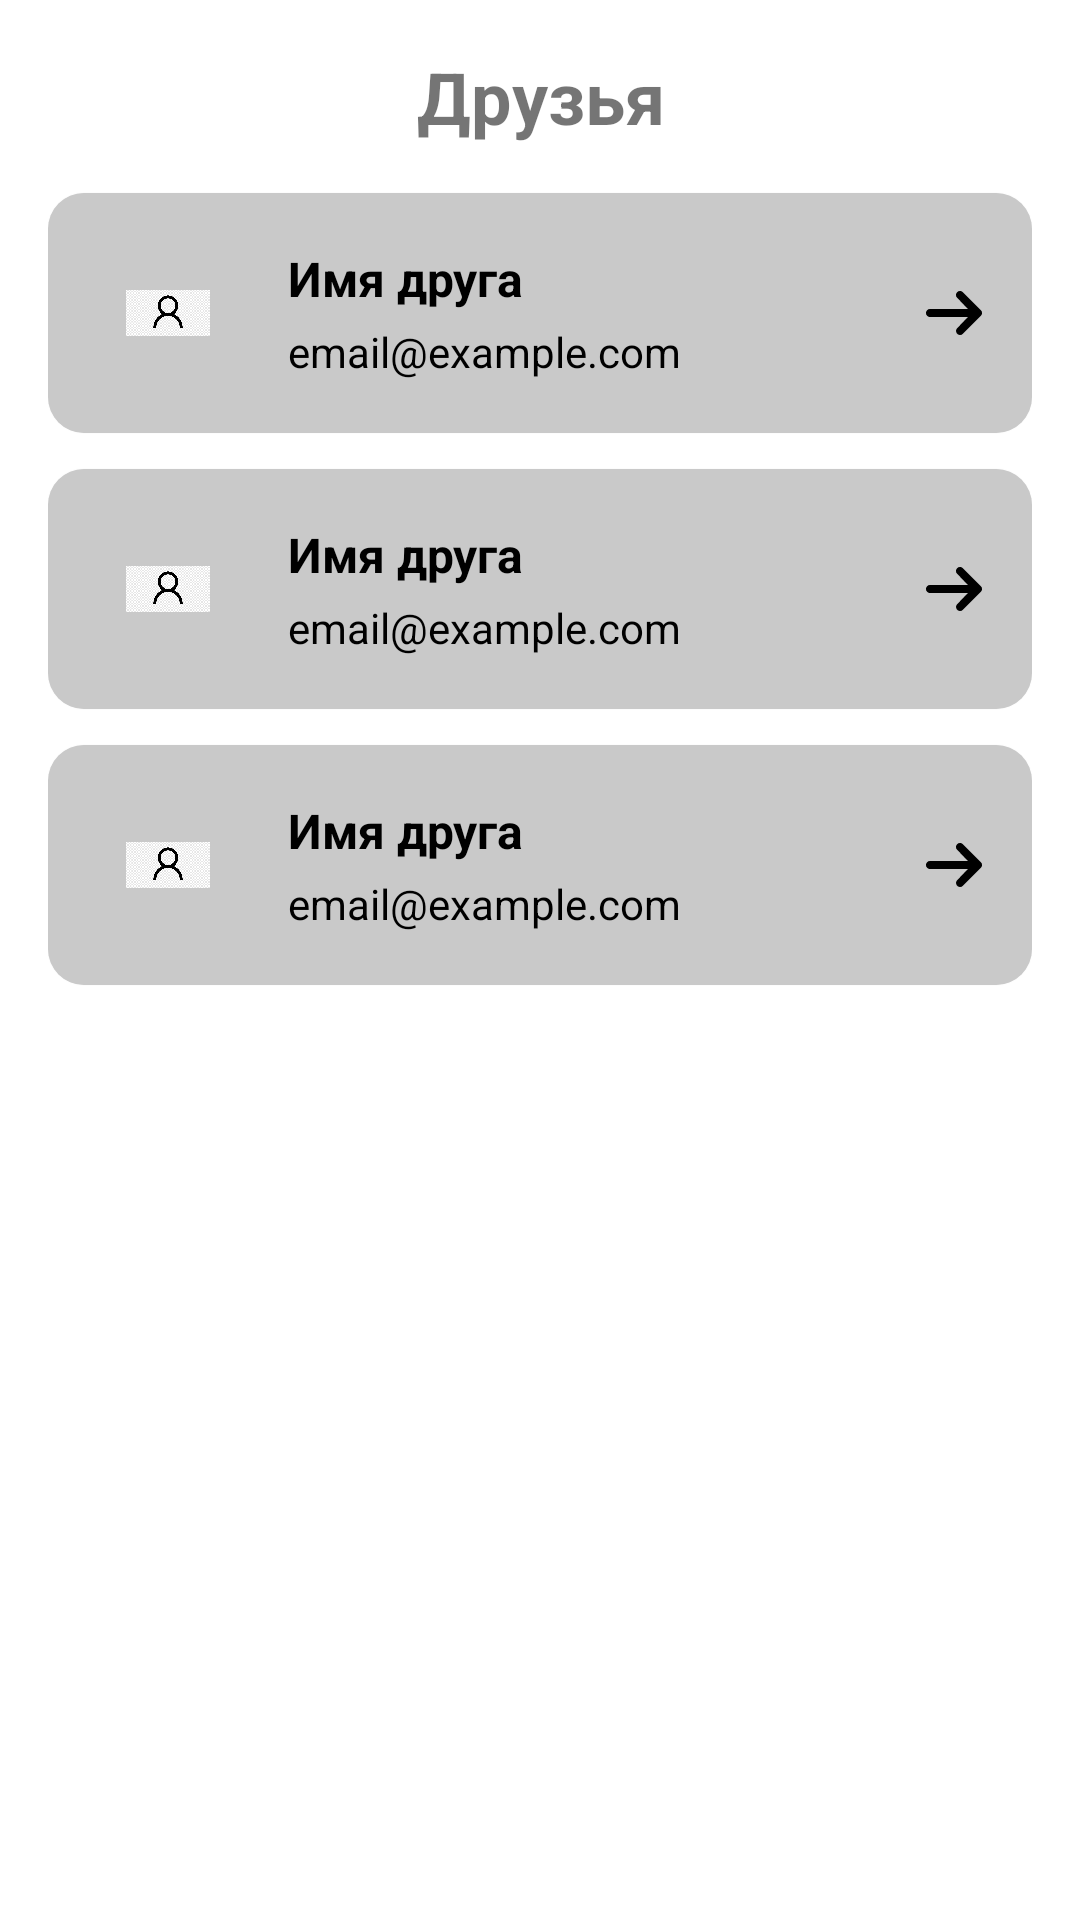

Icons on this 1080w x 1920h Android screen, each with the point to tap as (x,y):
arrow right: (954,313), (954,589), (954,865)
